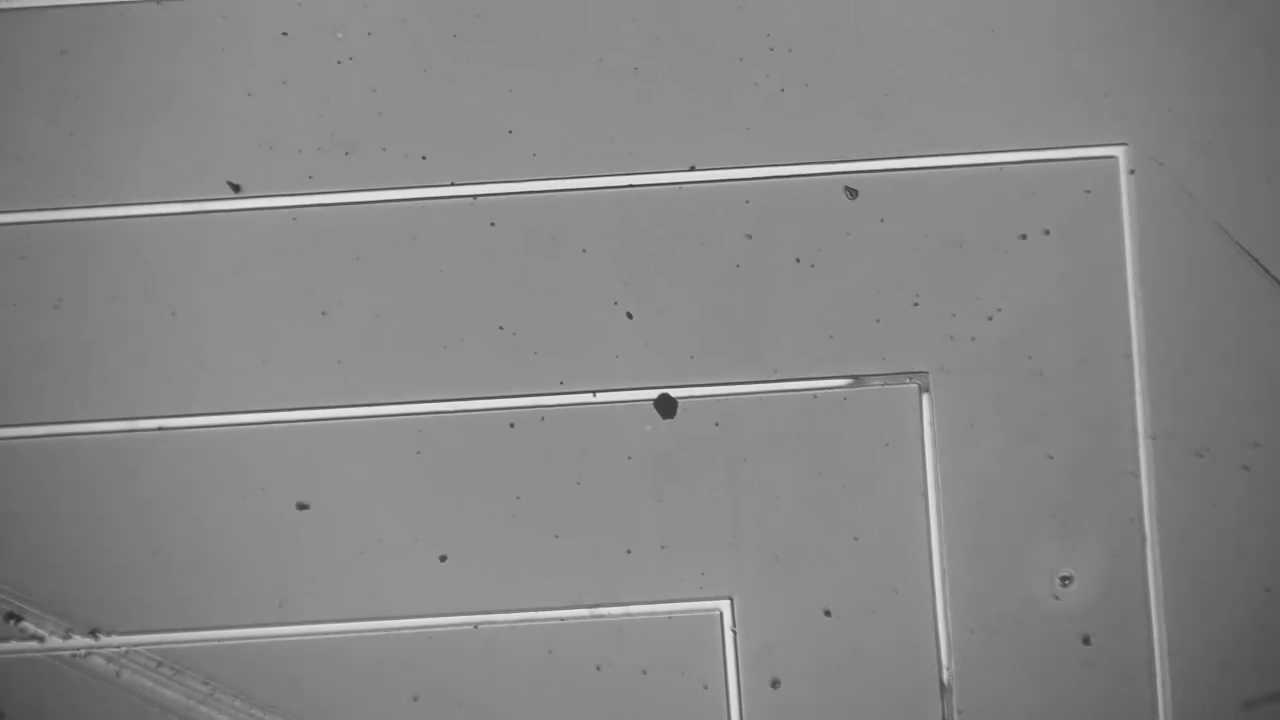edge_bite: (716, 622, 740, 640)
gray_line: (833, 369, 941, 395), (928, 670, 965, 719), (910, 357, 940, 407)
scratch: (0, 581, 268, 719), (1162, 169, 1279, 280)
stains_enbedded: (645, 377, 685, 426)
